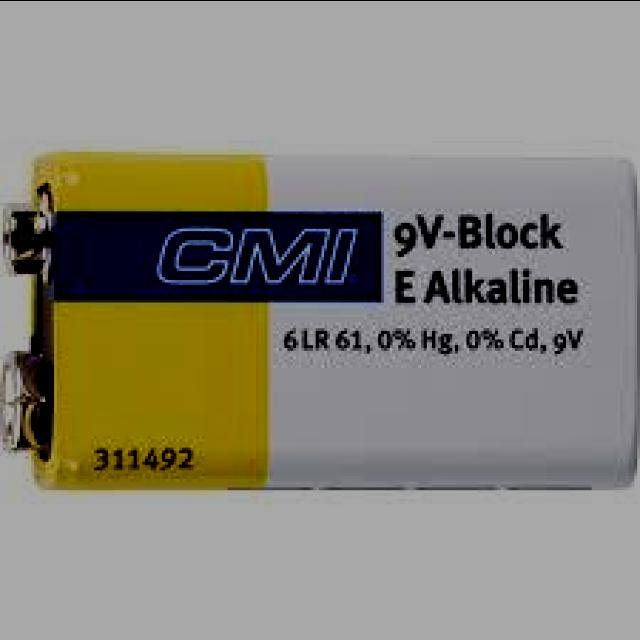9V: (0, 150, 637, 492)
